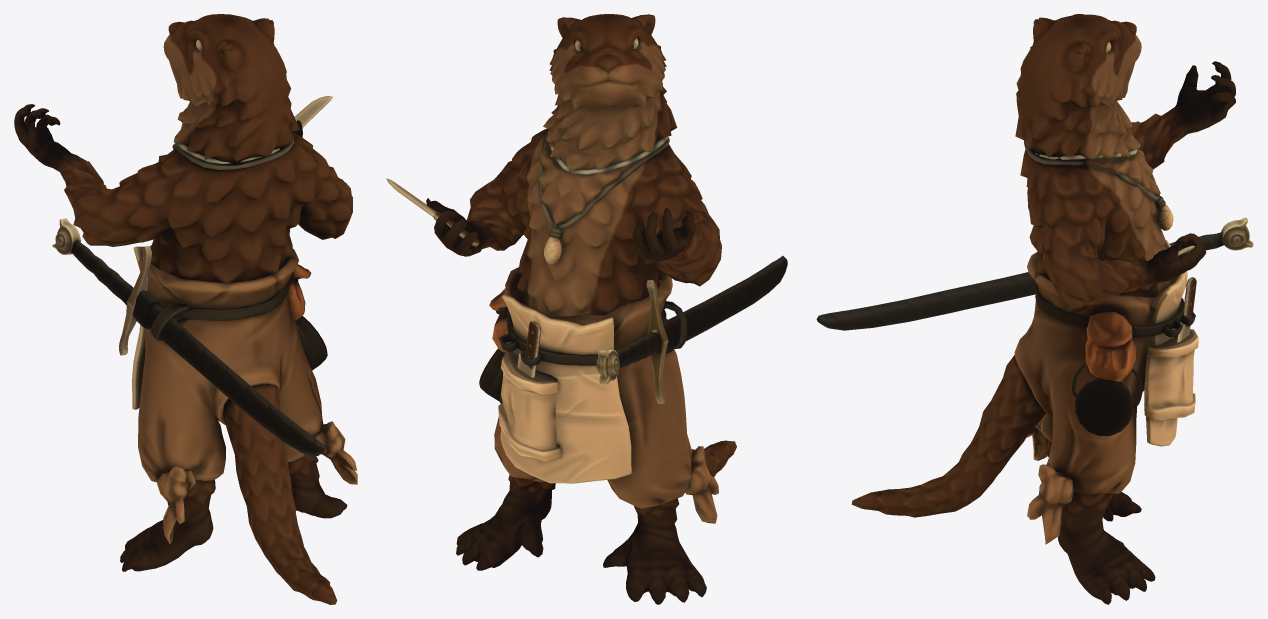
The model's file is beaver.glb.
3 renders of one model, left to right at view 1: azimuth 30°, elevation 25°; view 2: azimuth 150°, elevation 25°; view 3: azimuth 270°, elevation 25°, orthographic. The views are drawn at different scales.
Parts seen in each view (by area): view 1: PeanutTheChef_hand painted look_0; view 2: PeanutTheChef_hand painted look_0; view 3: PeanutTheChef_hand painted look_0.
Part boxes in pixels (left/top/right/bottom): PeanutTheChef_hand painted look_0: left=14, top=14, right=357, bottom=604; PeanutTheChef_hand painted look_0: left=386, top=14, right=787, bottom=604; PeanutTheChef_hand painted look_0: left=816, top=14, right=1253, bottom=604.
Size of the model in its own units: 3.18 by 5.36 by 4.07.
Materials: 1 (1 with a texture image).
